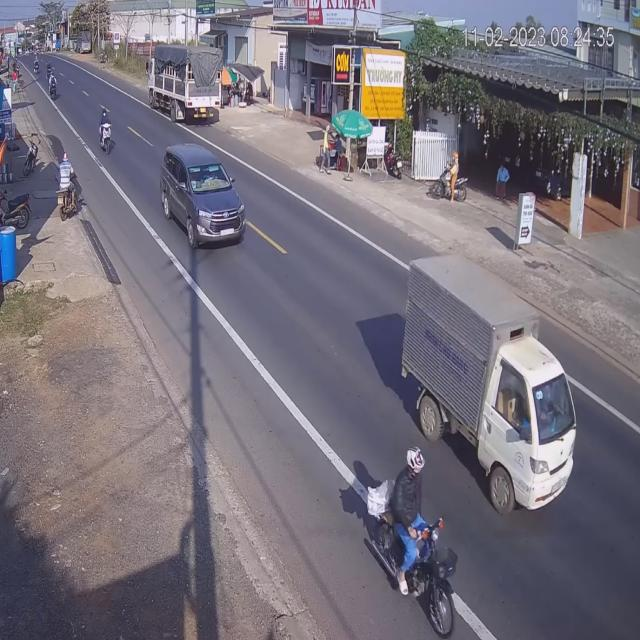car: (162, 145, 246, 253)
motorbike: (368, 443, 458, 640), (58, 152, 78, 220), (99, 106, 113, 154), (26, 134, 39, 175), (48, 72, 56, 100)
truck: (407, 252, 579, 514), (150, 41, 222, 121)
